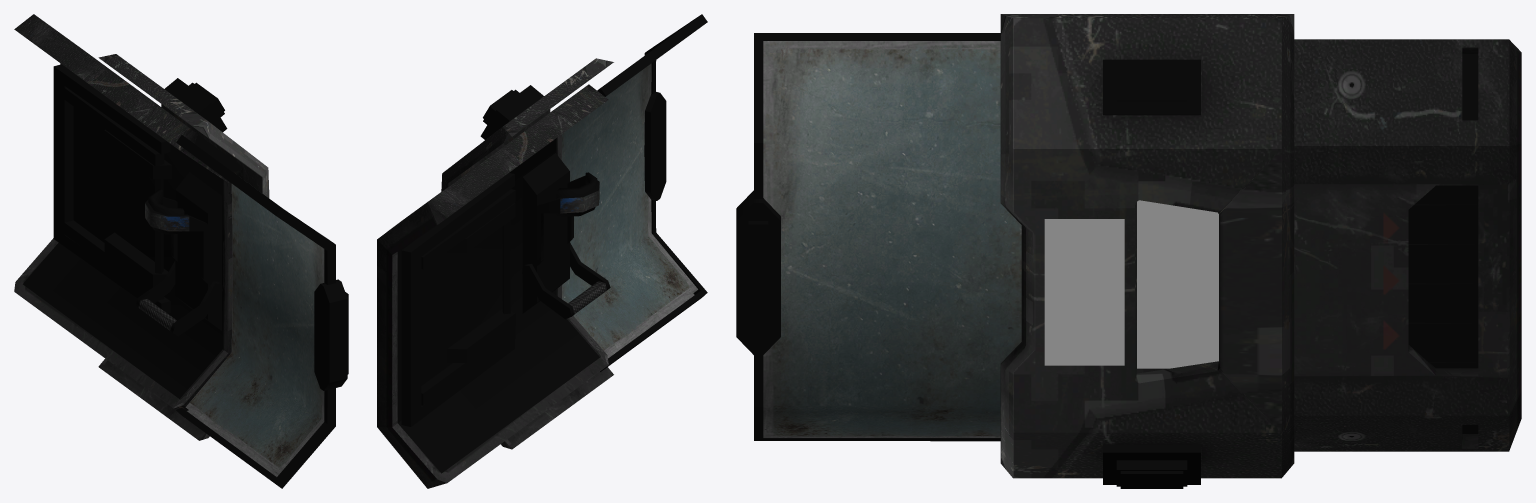
Rendered from t6_wpn_shield_carry_world_detect_LOD1.obj.
The picture shows the model from 3 angles, left to right: view 1: azimuth 30°, elevation 25°; view 2: azimuth 150°, elevation 25°; view 3: azimuth 270°, elevation 25°; orthographic projection. The views are drawn at different scales.
Parts seen in each view (by area): view 1: mtl_t6_wpn_shield_detect, mtl_t6_wpn_shield_glass, mtl_t6_wpn_shield_camo1, mtl_t6_wpn_shield_nodecal, mtl_t6_wpn_shield_camo3; view 2: mtl_t6_wpn_shield_detect, mtl_t6_wpn_shield_glass, mtl_t6_wpn_shield_camo1, mtl_t6_wpn_shield_nodecal, mtl_t6_wpn_shield_camo3; view 3: mtl_t6_wpn_shield_camo1, mtl_t6_wpn_shield_glass, mtl_t6_wpn_shield_camo2, mtl_t6_wpn_shield_detect, mtl_player_icon_world, mtl_clan_tag_world.
Part boxes in pixels (left/top/right/bottom): mtl_t6_wpn_shield_detect: left=23, top=64, right=348, bottom=488; mtl_t6_wpn_shield_glass: left=185, top=184, right=324, bottom=476; mtl_t6_wpn_shield_camo1: left=14, top=14, right=269, bottom=440; mtl_t6_wpn_shield_nodecal: left=98, top=104, right=262, bottom=440; mtl_t6_wpn_shield_camo3: left=138, top=203, right=189, bottom=331; mtl_t6_wpn_shield_detect: left=397, top=14, right=707, bottom=473; mtl_t6_wpn_shield_glass: left=562, top=63, right=697, bottom=358; mtl_t6_wpn_shield_camo1: left=377, top=58, right=613, bottom=488; mtl_t6_wpn_shield_nodecal: left=448, top=109, right=613, bottom=449; mtl_t6_wpn_shield_camo3: left=560, top=185, right=607, bottom=314; mtl_t6_wpn_shield_camo1: left=1000, top=14, right=1521, bottom=477; mtl_t6_wpn_shield_glass: left=763, top=41, right=1021, bottom=437; mtl_t6_wpn_shield_camo2: left=1013, top=18, right=1509, bottom=478; mtl_t6_wpn_shield_detect: left=736, top=33, right=1478, bottom=488; mtl_player_icon_world: left=1137, top=200, right=1218, bottom=368; mtl_clan_tag_world: left=1044, top=219, right=1124, bottom=365.
Size of the model in its own units: 26.54 by 87.16 by 135.
